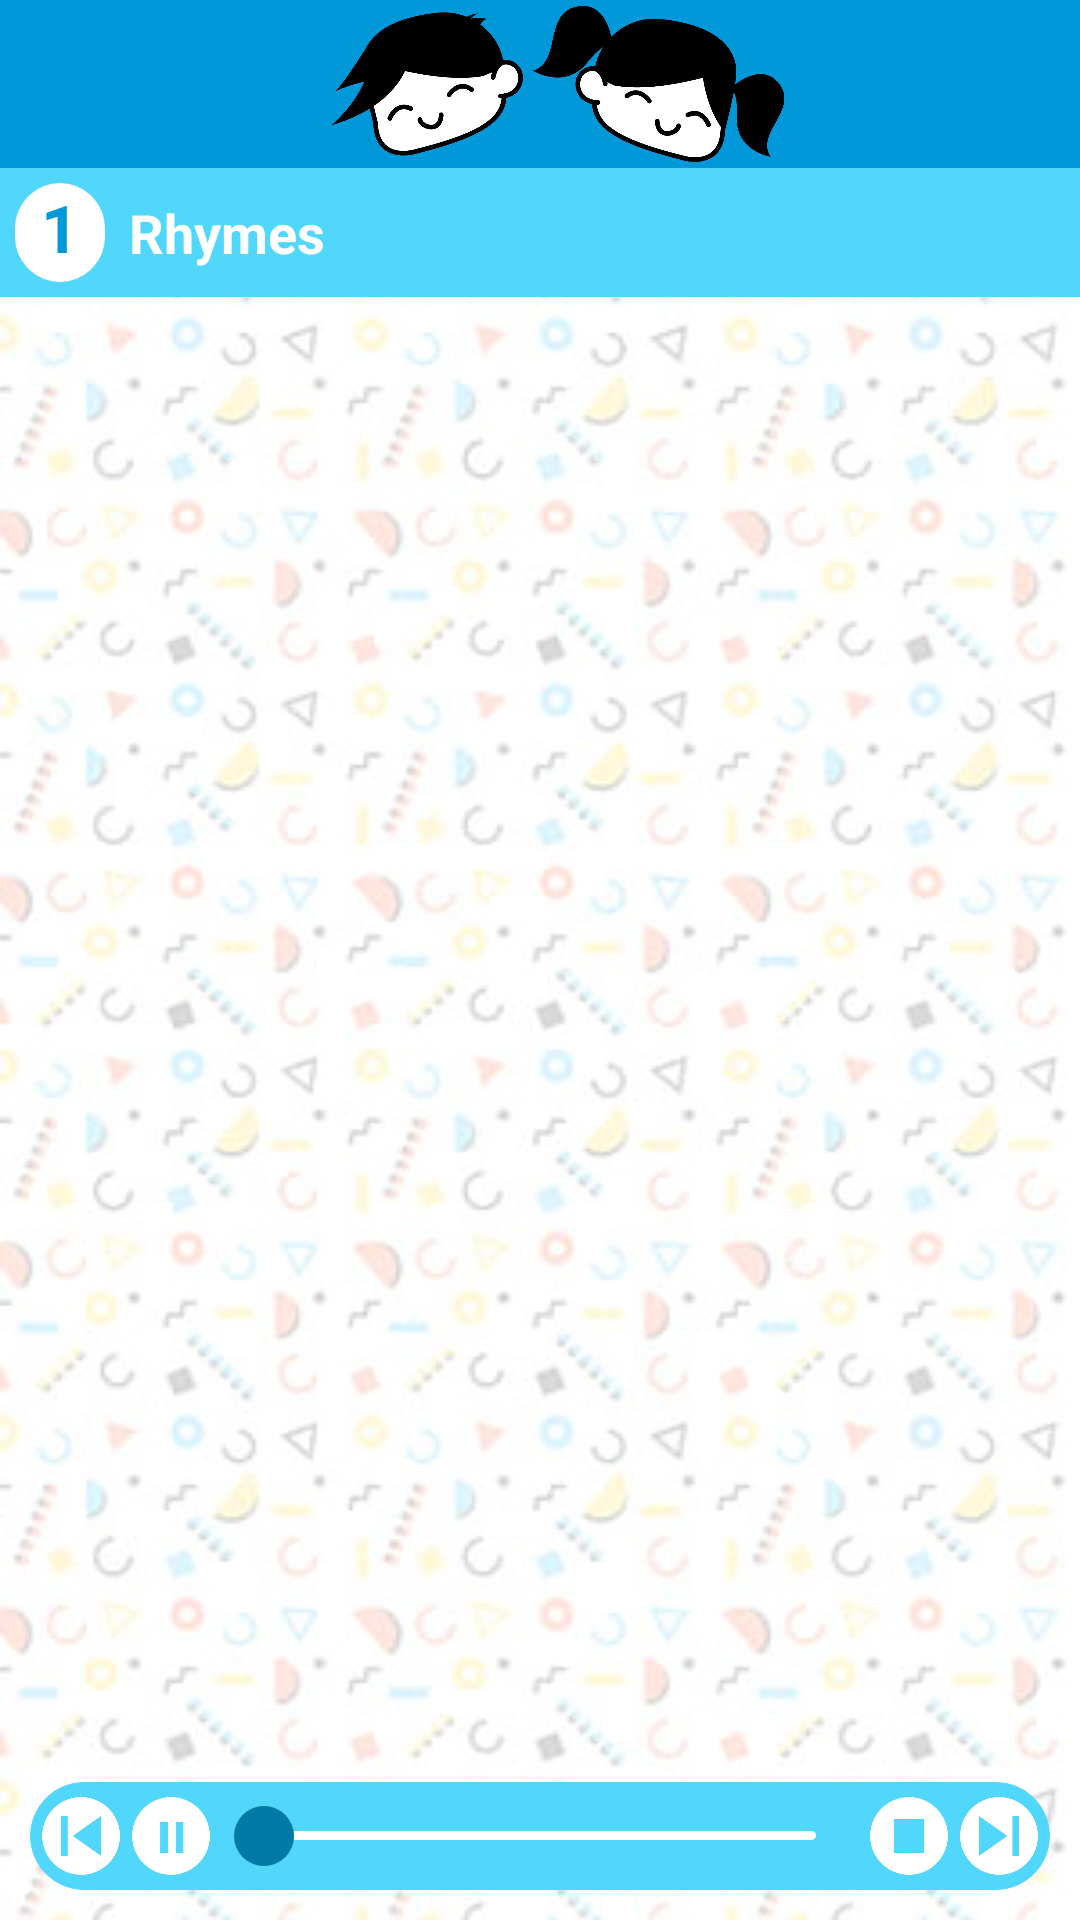

Icon click points for this 1080 × 1920 phone screenshot, format point (x, y):
player next: point (999, 1836)
player pause: point (171, 1836)
player prev: point (81, 1836)
player stop: point (909, 1836)
